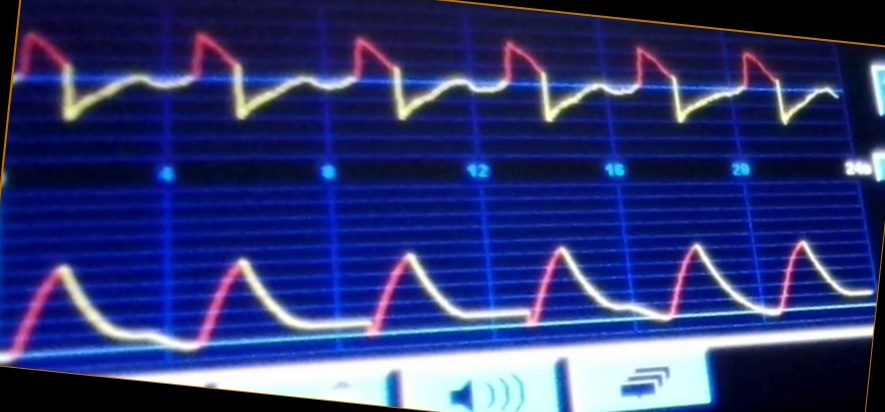Ineffective_effort Flow: (19, 23, 834, 141)
Ineffective_effort Volume: (3, 213, 871, 358)
